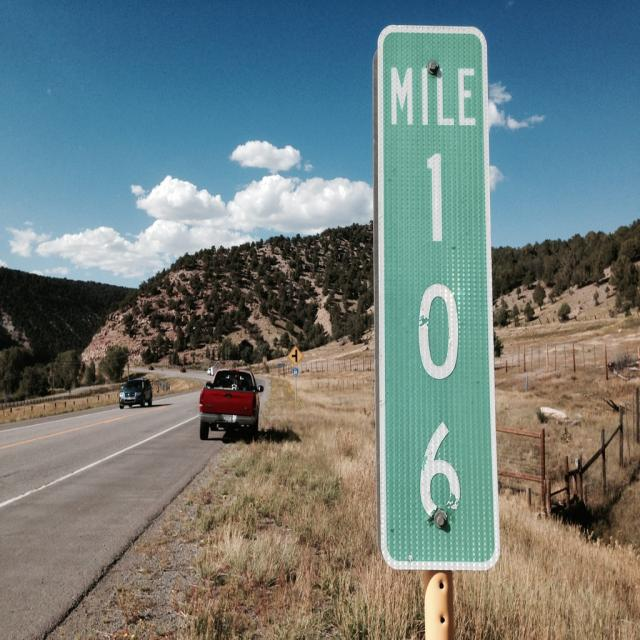car: (118, 375, 153, 406), (179, 366, 185, 372), (148, 365, 154, 369)
